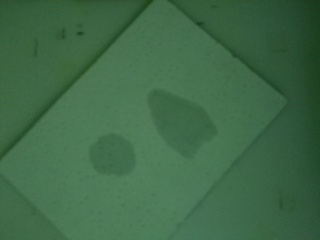Water_detected: (156, 99, 212, 145), (103, 147, 139, 172)
